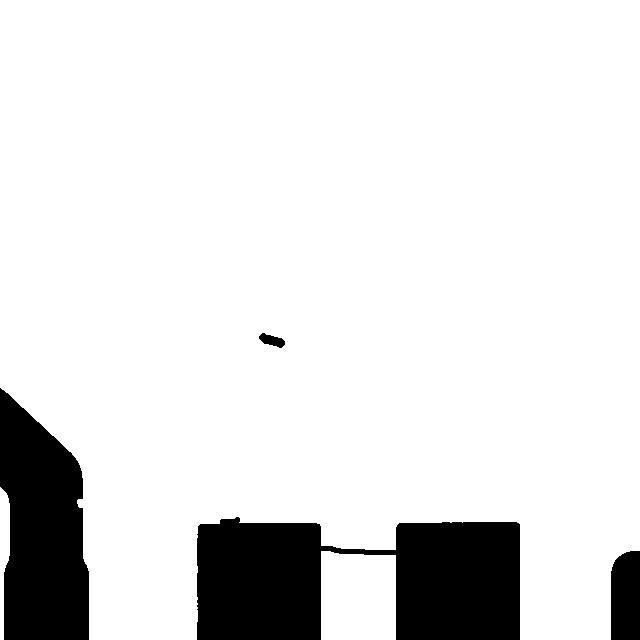copper: (249, 323, 294, 357)
mousebite: (67, 489, 95, 517)
short: (308, 536, 408, 564)
spur: (210, 507, 249, 535)
